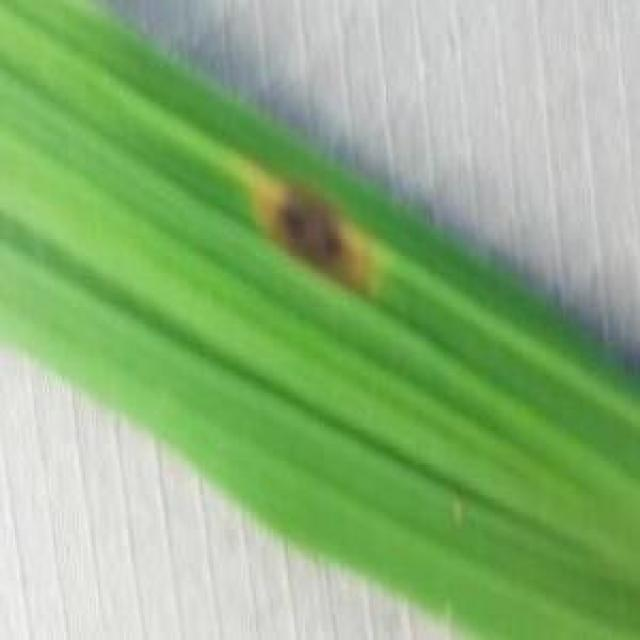brownspots: (252, 177, 382, 290)
